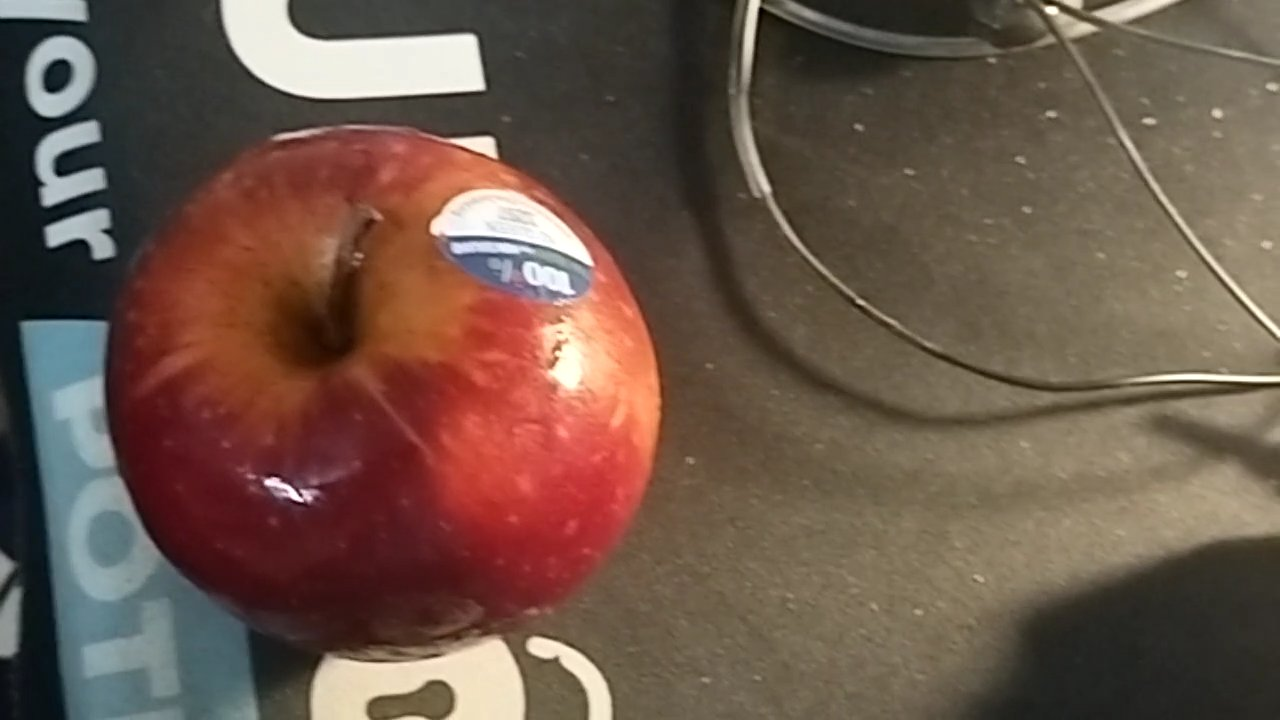apple_rotten: (96, 127, 666, 666)
